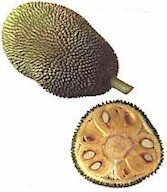jackfruit: (3, 0, 134, 99), (69, 99, 166, 188)
